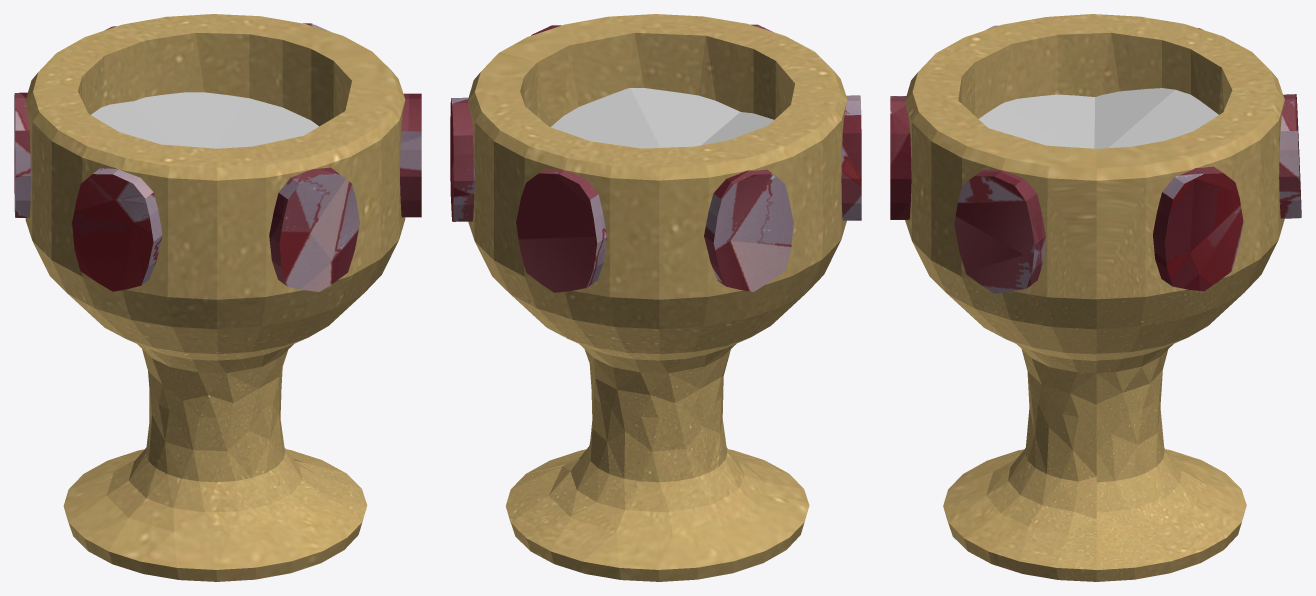
File: diamond_grail_ki_Red.dae
3 views of the same model, side by side, from view 1: azimuth 30°, elevation 25°; view 2: azimuth 150°, elevation 25°; view 3: azimuth 270°, elevation 25° (orthographic).
Parts seen in each view (by area): view 1: Grail, Diamonds, Blood; view 2: Grail, Diamonds, Blood; view 3: Grail, Diamonds, Blood.
Part boxes in pixels (box(x1,y1,x2,y2)): Grail: box(25, 14, 405, 581); Diamonds: box(14, 23, 421, 291); Blood: box(91, 92, 318, 148); Grail: box(467, 14, 847, 581); Diamonds: box(450, 24, 861, 292); Blood: box(551, 88, 773, 148); Grail: box(905, 14, 1284, 581); Diamonds: box(890, 25, 1301, 293); Blood: box(979, 88, 1218, 148).
Bounding box in the file's own units: 0.7718 × 0.786 × 0.9059.
